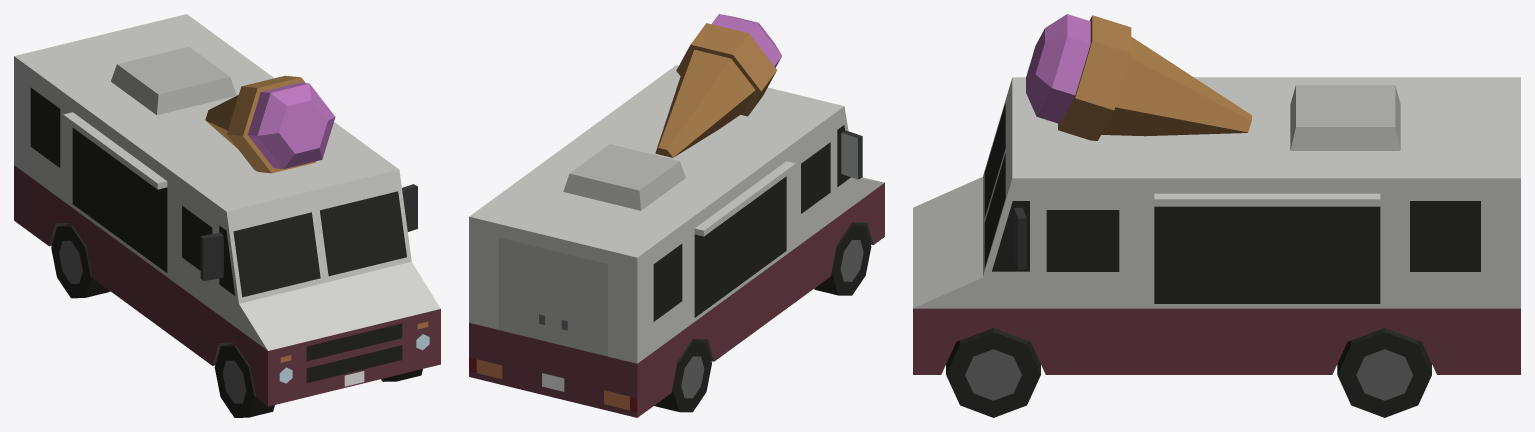
The model's file is Veh_IceCream_Van.glb.
The picture shows the model from 3 angles, left to right: view 1: azimuth 30°, elevation 25°; view 2: azimuth 150°, elevation 25°; view 3: azimuth 270°, elevation 25°; orthographic projection. The views are drawn at different scales.
Visible parts, largest first — view 1: Ice_Cream_Van, Wheel_FR, Wheel_RR; view 2: Ice_Cream_Van, Wheel_RR, Wheel_FR; view 3: Ice_Cream_Van, Wheel_FL, Wheel_RL.
Boxes of the visible parts, x1,y1,x2,y2 form: Ice_Cream_Van: (14,14,440,406); Wheel_FR: (214,343,274,417); Wheel_RR: (51,223,110,298); Ice_Cream_Van: (469,14,884,417); Wheel_RR: (654,339,711,412); Wheel_FR: (814,223,871,295); Ice_Cream_Van: (913,14,1520,374); Wheel_FL: (946,328,1040,417); Wheel_RL: (1337,328,1431,417).
Bounding box in the file's own units: 1.43 × 1.82 × 2.92.
1 material, 1 textured.
